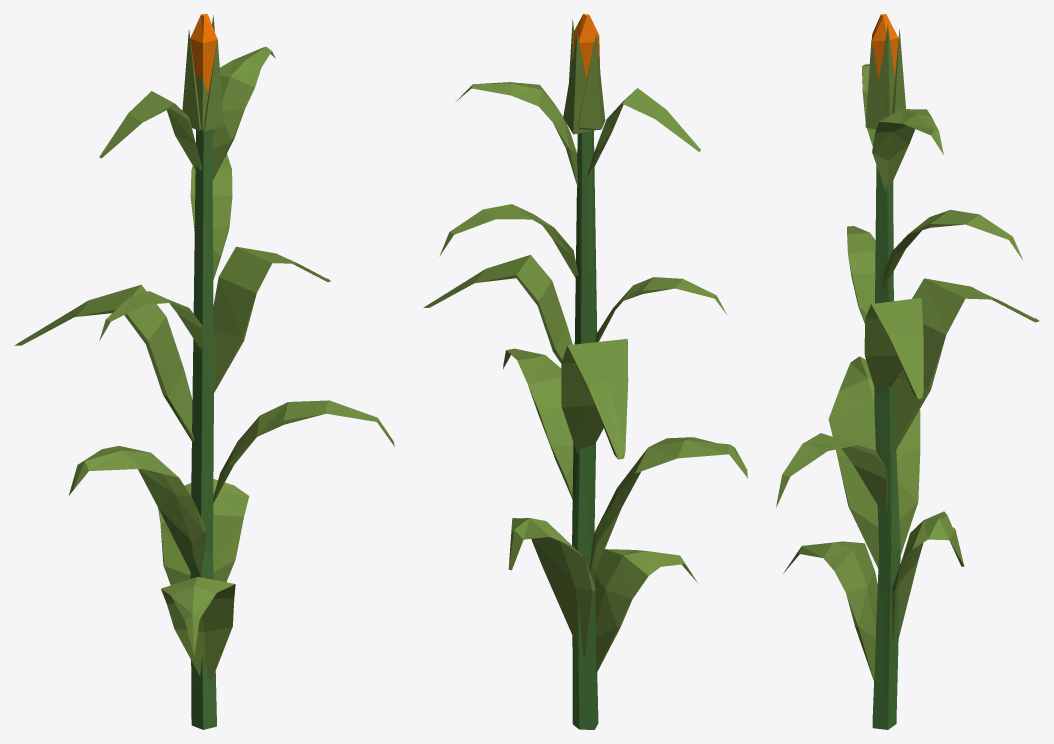
The model's file is CornPlant_01.fbx.
3 views of the same model, side by side, from view 1: azimuth 30°, elevation 25°; view 2: azimuth 150°, elevation 25°; view 3: azimuth 270°, elevation 25° (orthographic).
Parts seen in each view (by area): view 1: CornPlant_01_LOD0; view 2: CornPlant_01_LOD0; view 3: CornPlant_01_LOD0.
Boxes of the visible parts, left/top/right/bottom form: CornPlant_01_LOD0: left=14, top=14, right=394, bottom=729; CornPlant_01_LOD0: left=423, top=14, right=747, bottom=729; CornPlant_01_LOD0: left=776, top=14, right=1039, bottom=729.
Size of what is drawn, in the model's own units: 59.08 by 137 by 46.08.
